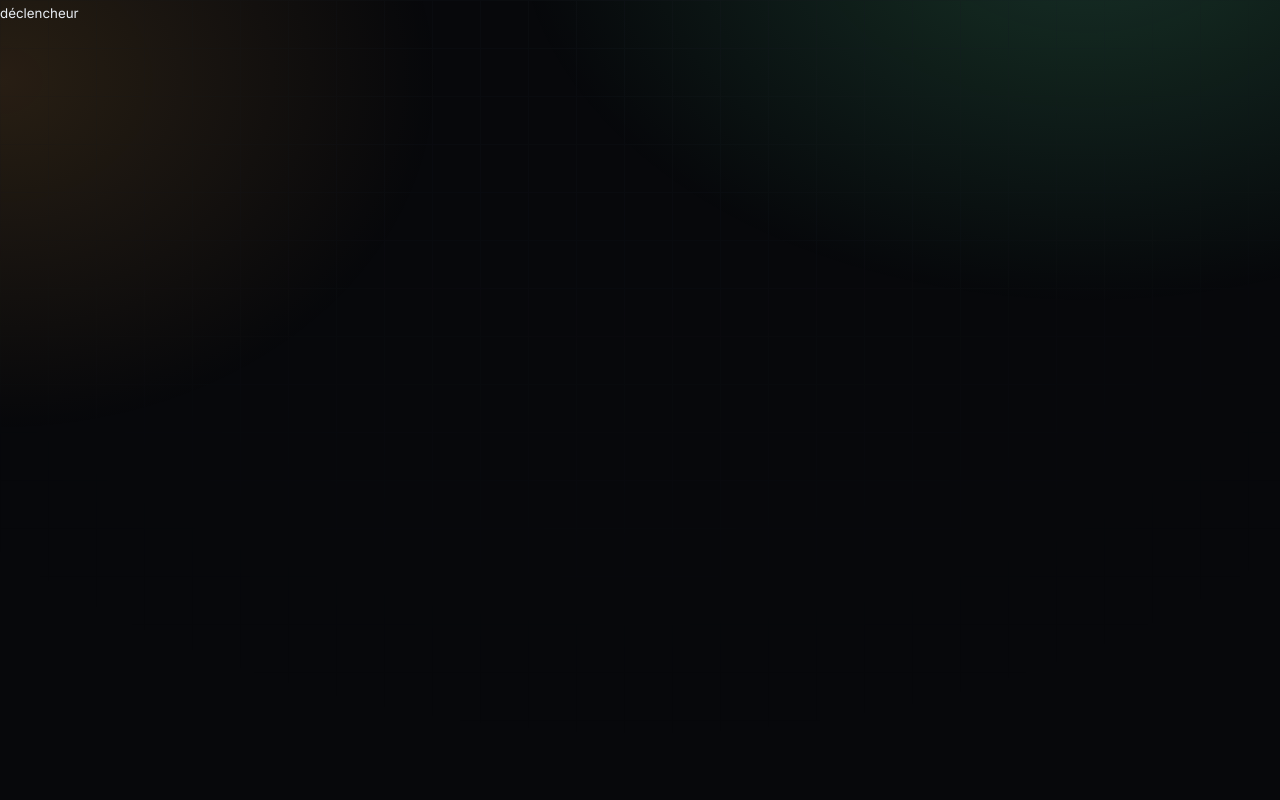
it: CommandPalette › filtre les commandes selon la recherche
Type keys "{Control>}k{/Control}"
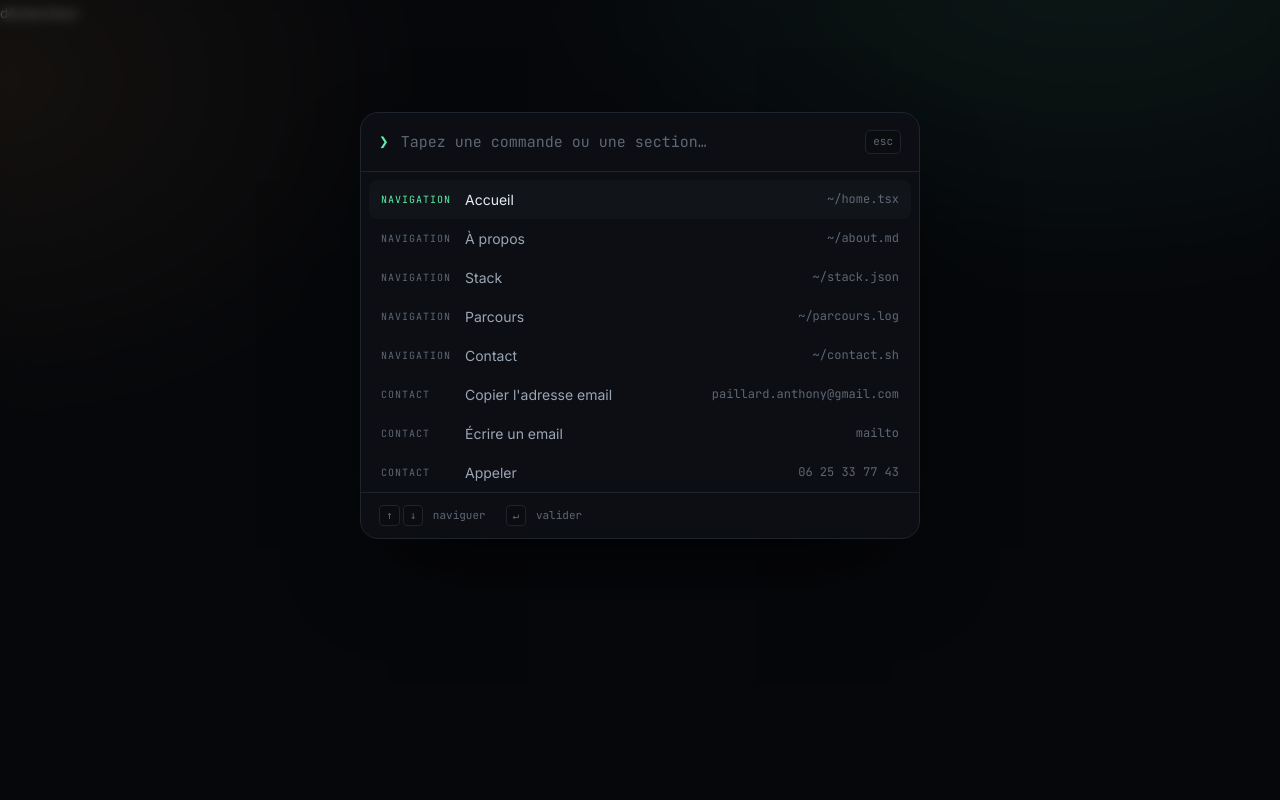
Type "email" into the field at (627, 142), box [401,132,853,152]
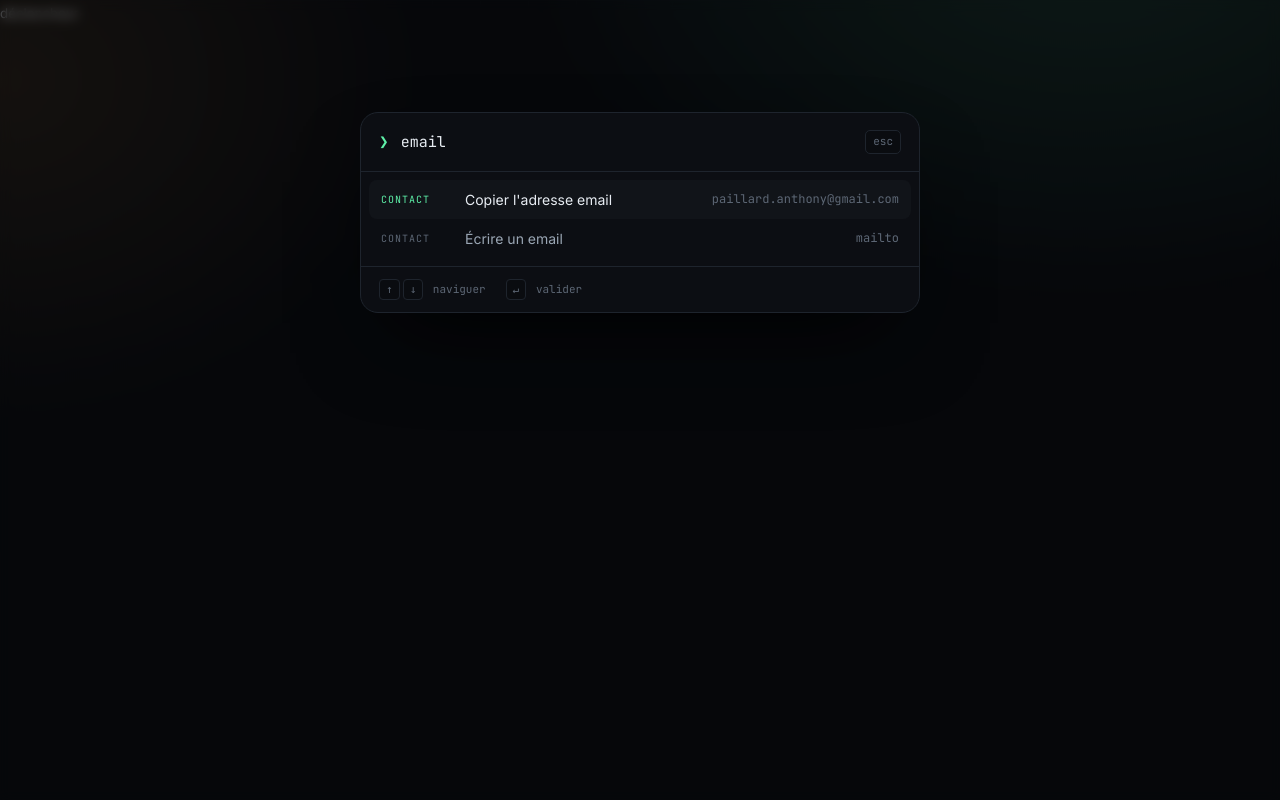
Expected: the text "Copier l'adresse email" is shown, [465,191,612,208]
Expected: the button "À propos" is gone
